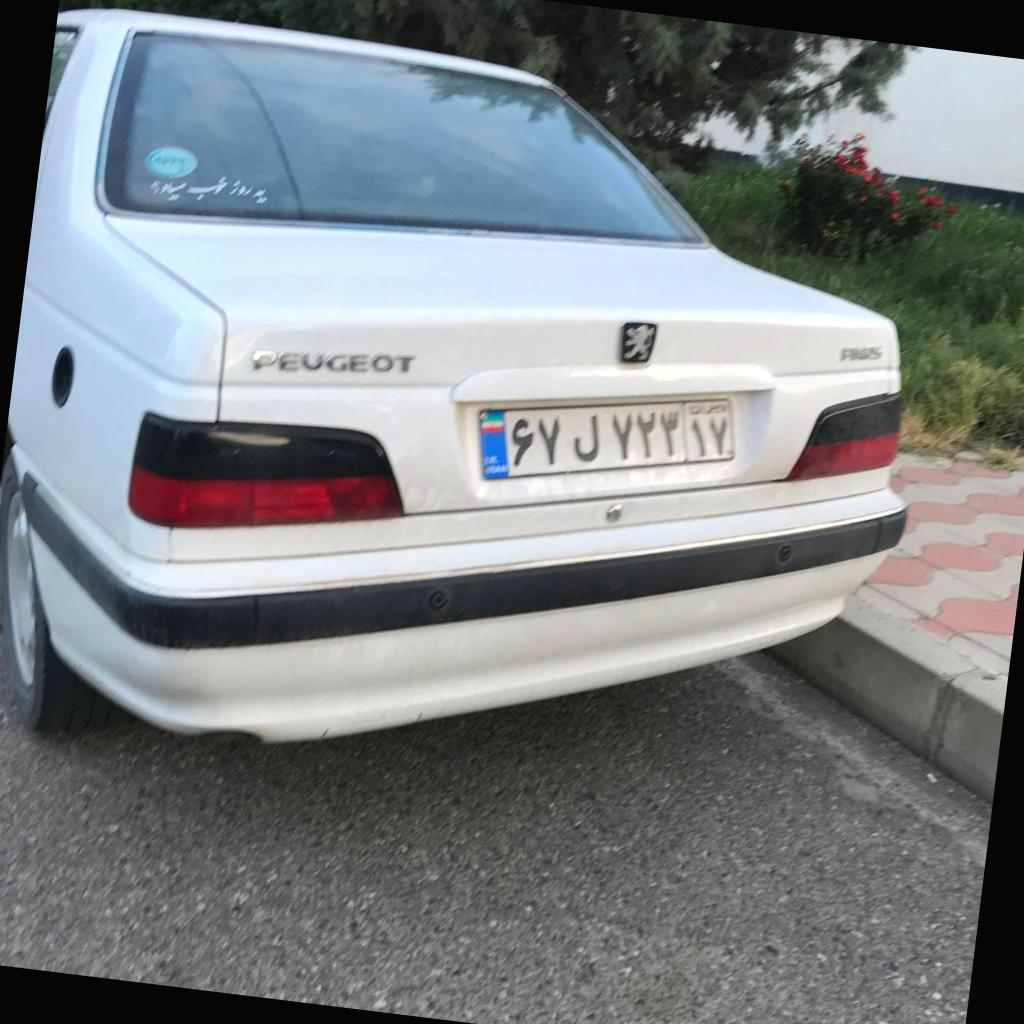Plates: (479, 397, 735, 478)
